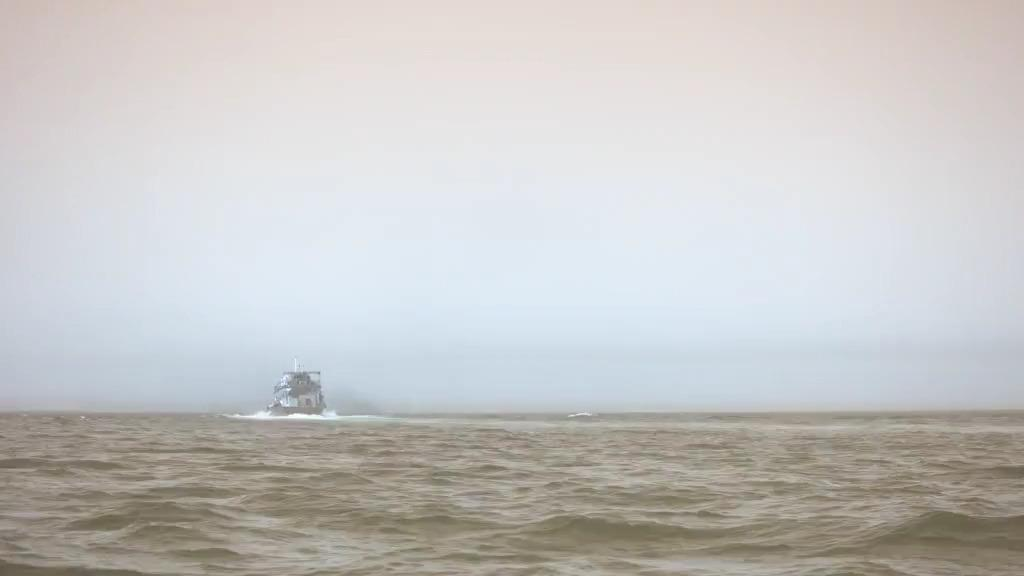PassengerShip: (266, 349, 334, 421)
